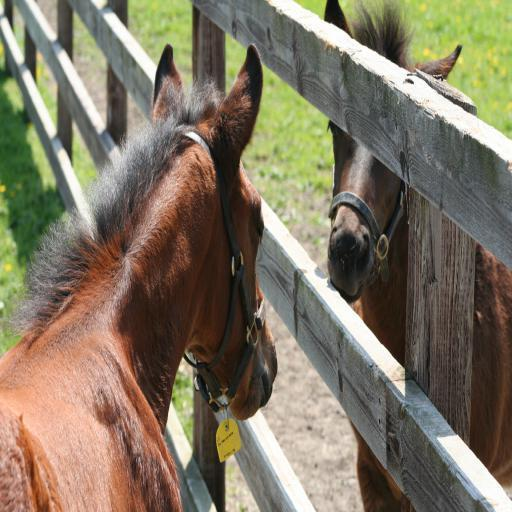horse: (0, 43, 278, 511), (325, 0, 512, 512)
